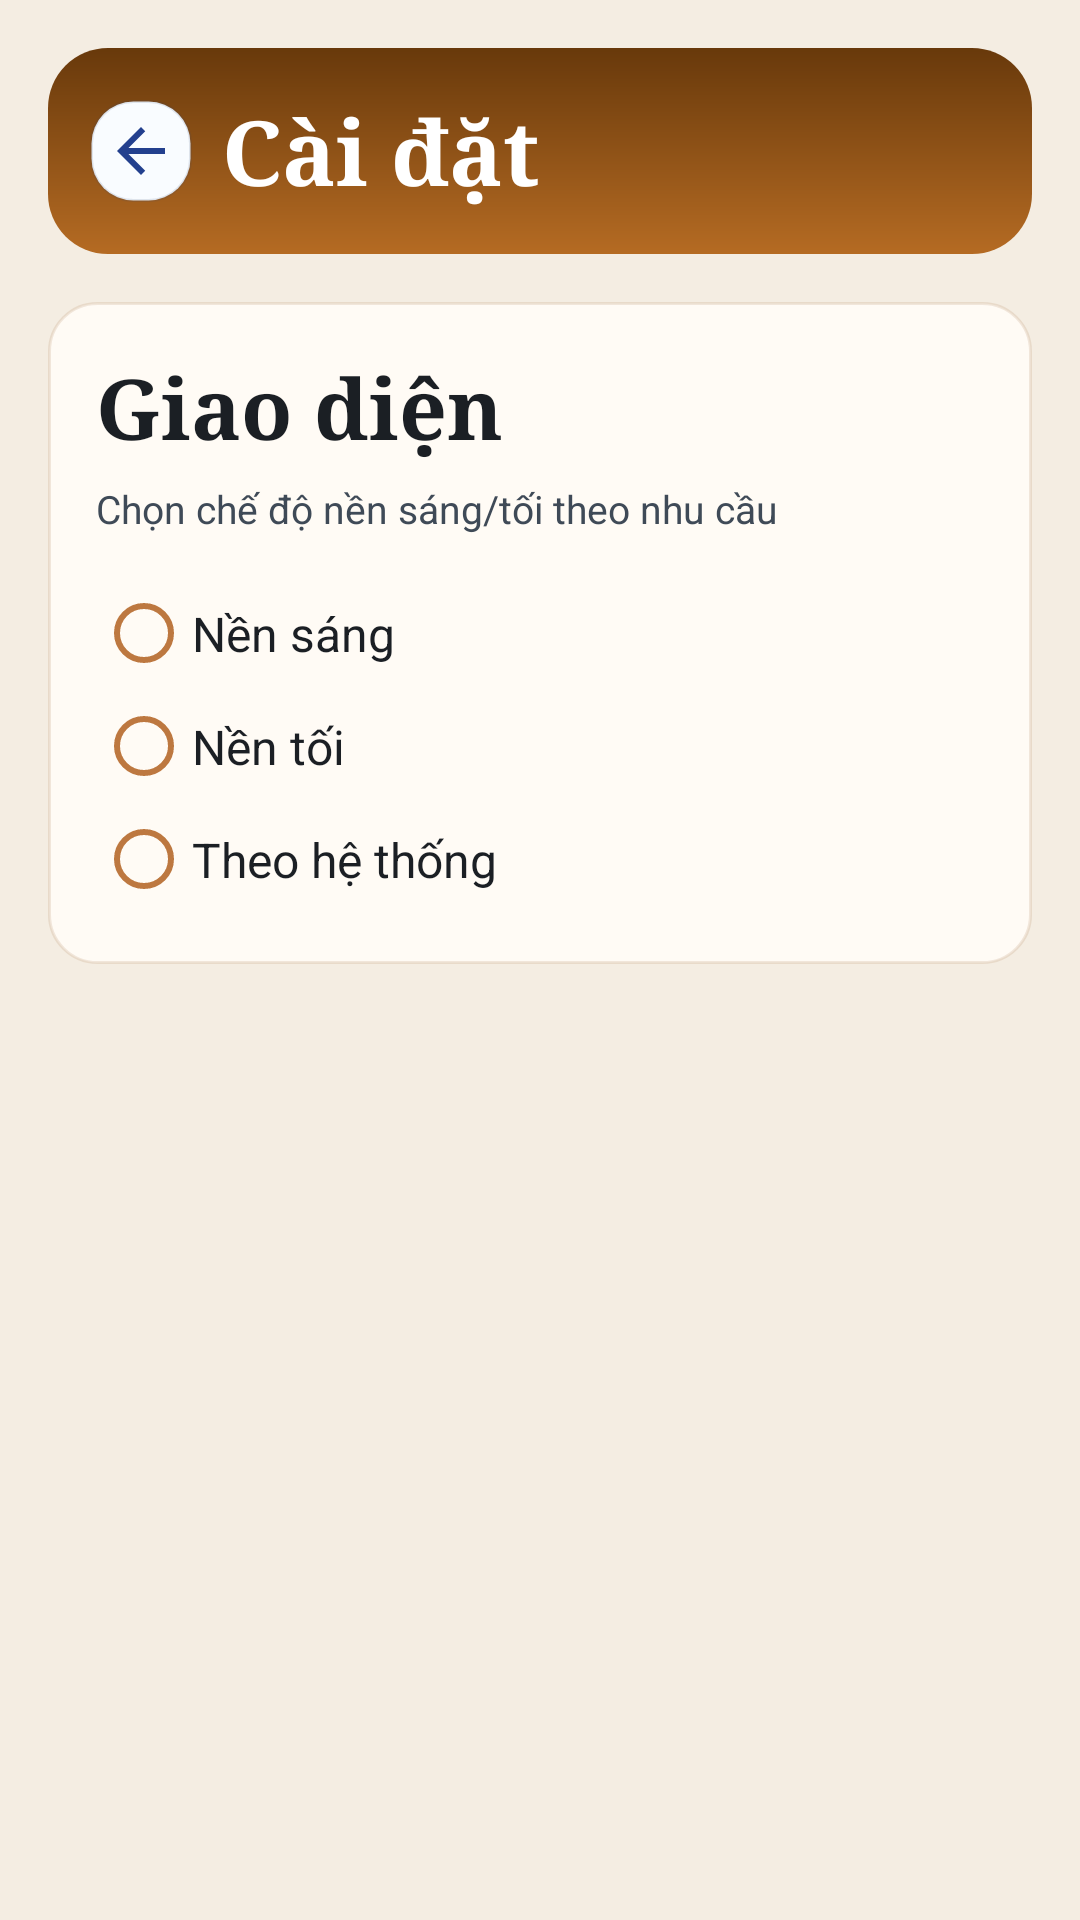

Named icons in this screenshot (1080x1920) and their centers, point (x, y):
Quay lại: point (141, 151)
